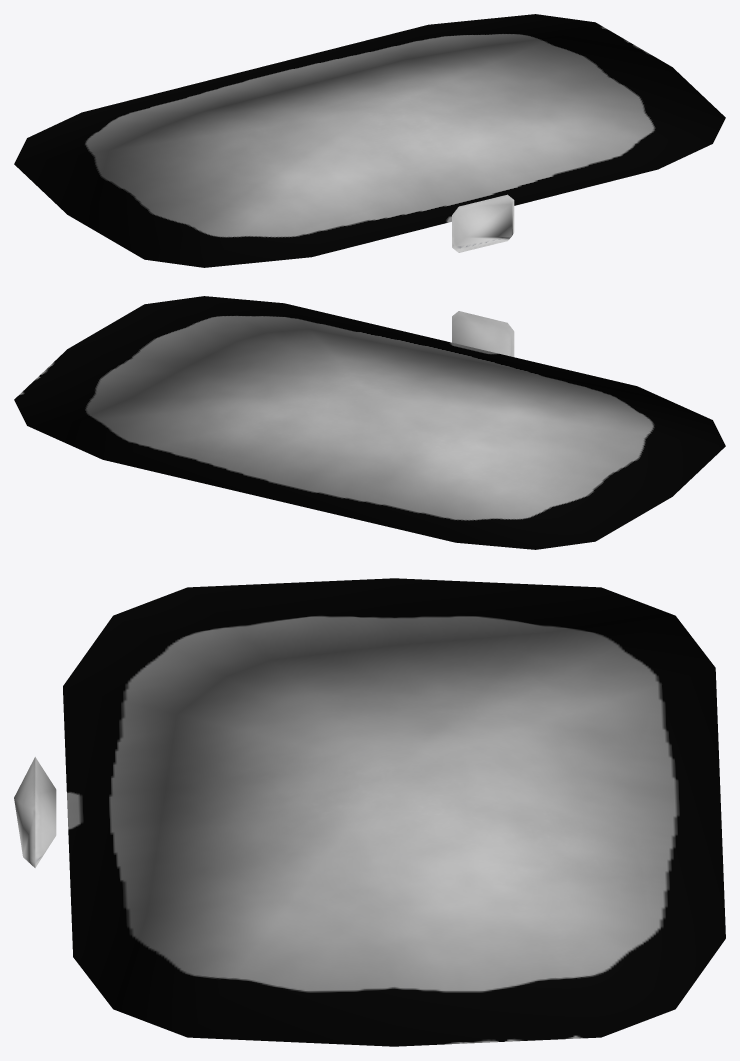
Rendered from LowerTorso_C2.fbx.
The picture shows the model from 3 angles, top to bottom: view 1: azimuth 30°, elevation 25°; view 2: azimuth 150°, elevation 25°; view 3: azimuth 270°, elevation 25°; orthographic projection. The views are drawn at different scales.
Parts seen in each view (by area): view 1: Civ_PilotoLargo_LowerTorso_C2; view 2: Civ_PilotoLargo_LowerTorso_C2; view 3: Civ_PilotoLargo_LowerTorso_C2.
Boxes of the visible parts, bbox=[...] form: Civ_PilotoLargo_LowerTorso_C2: bbox=[14, 14, 725, 267]; Civ_PilotoLargo_LowerTorso_C2: bbox=[14, 296, 725, 549]; Civ_PilotoLargo_LowerTorso_C2: bbox=[14, 578, 725, 1046].
Bounding box in the file's own units: 2.43 × 0.2143 × 1.56.
